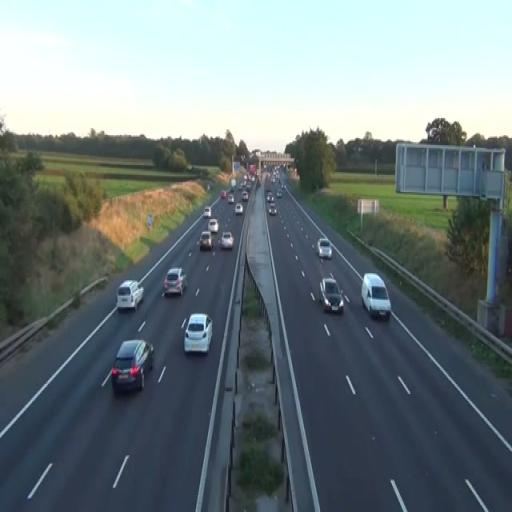Car: (112, 338, 154, 394), (361, 272, 392, 321), (182, 313, 213, 355), (319, 273, 344, 314), (116, 280, 145, 312), (162, 268, 188, 298), (317, 238, 332, 260), (199, 230, 212, 251), (221, 230, 234, 250), (208, 219, 219, 233), (234, 202, 244, 216)
